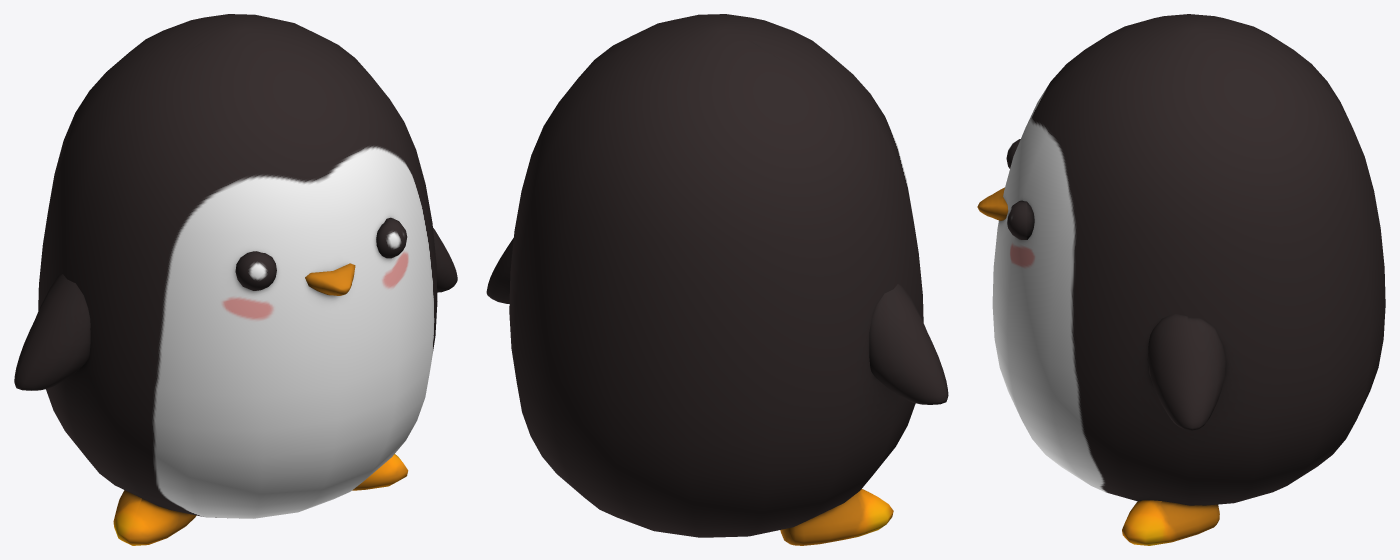
Rendered from 3D_Penquin.FBX.
3 renders of one model, left to right at view 1: azimuth 30°, elevation 25°; view 2: azimuth 150°, elevation 25°; view 3: azimuth 270°, elevation 25°, orthographic. The views are drawn at different scales.
Parts seen in each view (by area): view 1: 3D_Pinquin; view 2: 3D_Pinquin; view 3: 3D_Pinquin.
Part boxes in pixels (x1=…): 3D_Pinquin: x1=14, y1=14, x2=457, y2=545; 3D_Pinquin: x1=486, y1=14, x2=948, y2=545; 3D_Pinquin: x1=977, y1=14, x2=1385, y2=545.
Bounding box in the file's own units: 56.42 × 57.56 × 46.34.
